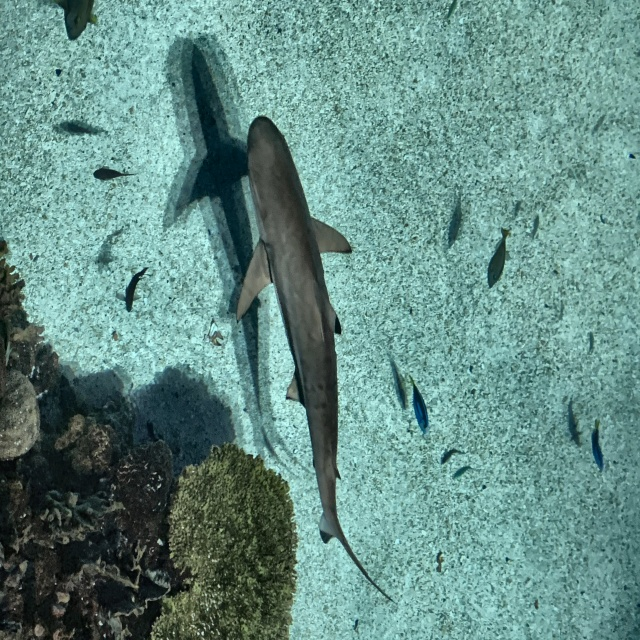fish: (480, 221, 520, 298), (406, 369, 433, 446), (52, 0, 100, 43), (115, 265, 152, 320), (585, 418, 611, 477), (91, 163, 141, 189), (58, 116, 106, 143), (440, 448, 469, 466)
shark: (235, 115, 352, 545)
